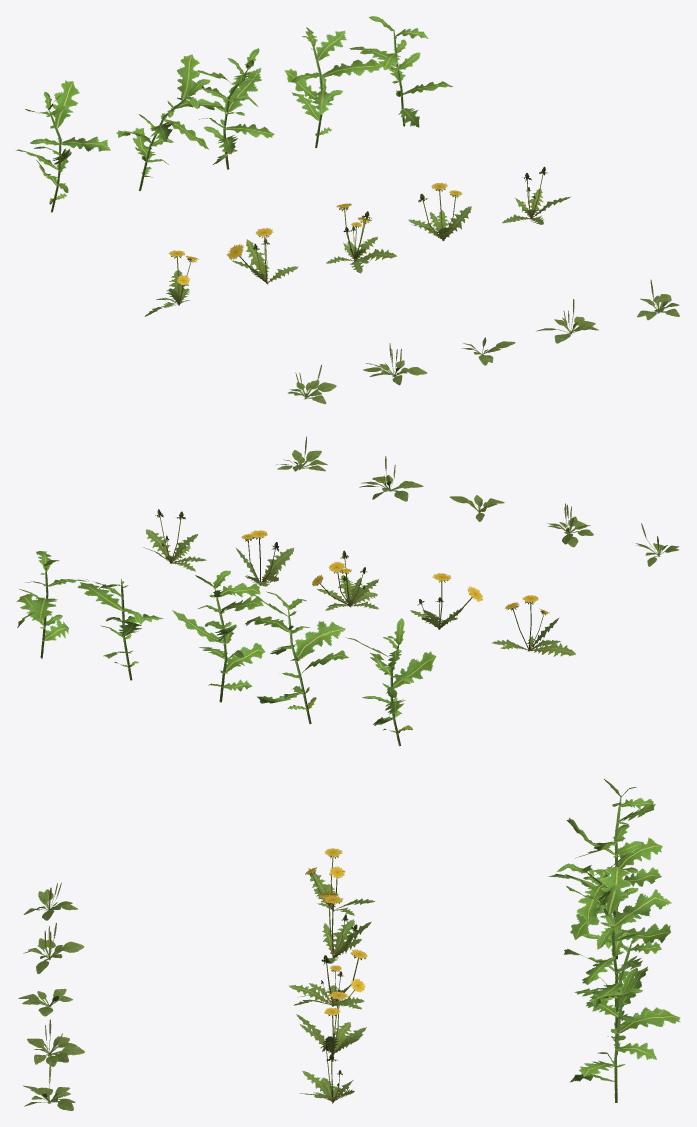
The model's file is rasteira.glb.
3 views of the same model, one above another, from view 1: azimuth 30°, elevation 25°; view 2: azimuth 150°, elevation 25°; view 3: azimuth 270°, elevation 25° (orthographic). The views are drawn at different scales.
Parts seen in each view (by area): view 1: Lactuca.002, Lactuca.004, Lactuca.003, Lactuca.001, Lactuca.005, Dandelion.003, Dandelion.004, Dandelion.002, Dandelion.001, Dandelion.005, Plantain.002, Plantain.001 (+2 smaller); view 2: Lactuca.003, Lactuca.002, Lactuca.001, Lactuca.005, Lactuca.004, Dandelion.003, Dandelion.001, Dandelion.004, Dandelion.005, Dandelion.002, Plantain.004, Plantain.002 (+1 smaller); view 3: Lactuca.003, Lactuca.005, Lactuca.001, Lactuca.002, Lactuca.004, Dandelion.003, Dandelion.004, Dandelion.002, Dandelion.001, Plantain.004, Dandelion.005, Plantain.002 (+3 smaller).
Boxes of the visible parts, left/top/right/bottom form: Lactuca.002: left=116, top=54, right=227, bottom=190; Lactuca.004: left=284, top=27, right=382, bottom=147; Lactuca.003: left=192, top=48, right=274, bottom=169; Lactuca.001: left=16, top=80, right=110, bottom=212; Lactuca.005: left=349, top=16, right=453, bottom=127; Dandelion.003: left=326, top=203, right=396, bottom=273; Dandelion.004: left=408, top=182, right=471, bottom=240; Dandelion.002: left=226, top=227, right=298, bottom=284; Dandelion.001: left=145, top=250, right=199, bottom=316; Dandelion.005: left=502, top=166, right=570, bottom=224; Plantain.002: left=363, top=343, right=427, bottom=385; Plantain.001: left=288, top=364, right=336, bottom=404; Lactuca.003: left=172, top=570, right=265, bottom=702; Lactuca.002: left=245, top=591, right=348, bottom=724; Lactuca.001: left=345, top=618, right=436, bottom=746; Lactuca.005: left=16, top=551, right=88, bottom=658; Lactuca.004: left=77, top=579, right=163, bottom=680; Dandelion.003: left=312, top=550, right=378, bottom=610; Dandelion.001: left=491, top=595, right=575, bottom=656; Dandelion.004: left=236, top=530, right=294, bottom=586; Dandelion.005: left=143, top=509, right=206, bottom=571; Dandelion.002: left=410, top=573, right=483, bottom=629; Plantain.004: left=359, top=456, right=423, bottom=501; Plantain.002: left=547, top=503, right=593, bottom=547; Lactuca.003: left=564, top=866, right=671, bottom=1006; Lactuca.005: left=569, top=967, right=680, bottom=1102; Lactuca.001: left=566, top=779, right=662, bottom=910; Lactuca.002: left=548, top=854, right=670, bottom=959; Lactuca.004: left=574, top=937, right=668, bottom=1054; Dandelion.003: left=288, top=949, right=367, bottom=1009; Dandelion.004: left=296, top=989, right=366, bottom=1055; Dandelion.002: left=318, top=892, right=371, bottom=963; Dandelion.001: left=305, top=848, right=374, bottom=915; Plantain.004: left=27, top=1019, right=84, bottom=1066; Dandelion.005: left=300, top=1042, right=354, bottom=1103; Plantain.002: left=23, top=923, right=84, bottom=974.
Size of the model in its own units: 1.98 by 0.5446 by 2.36.
Materials: 3 (3 with a texture image).
